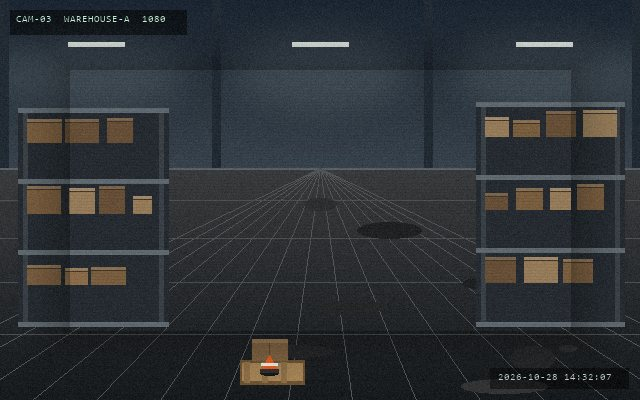cone: (259, 353, 279, 375)
pallet: (238, 358, 306, 386)
shelf: (476, 102, 624, 322), (18, 108, 168, 322)
